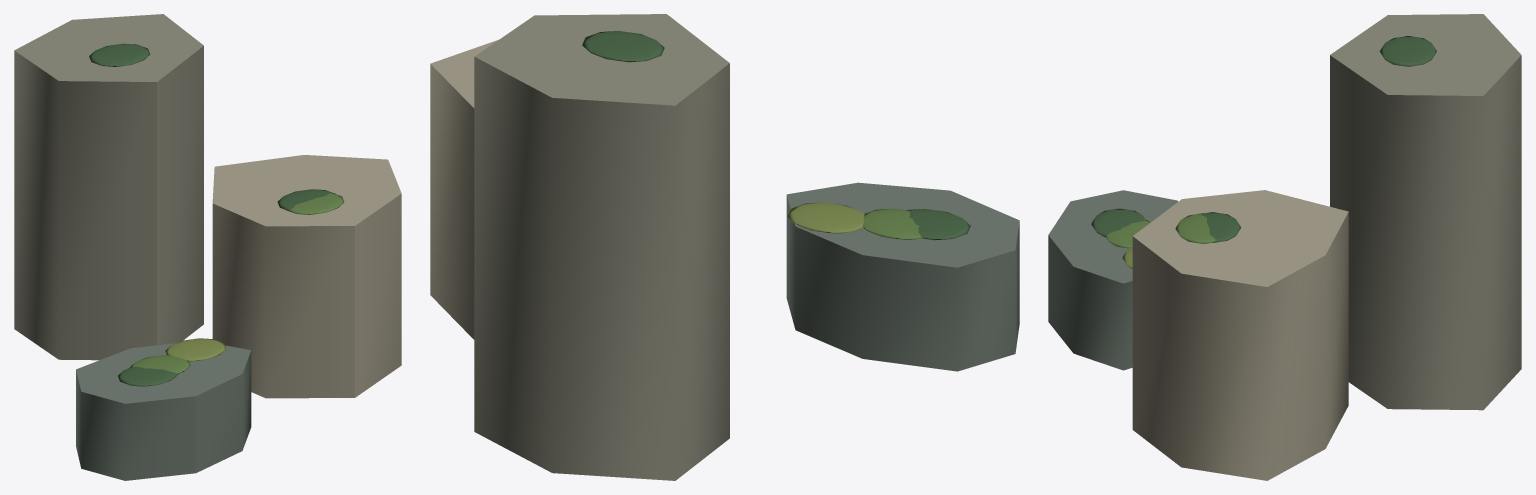
The picture shows the model from 3 angles, left to right: view 1: azimuth 30°, elevation 25°; view 2: azimuth 150°, elevation 25°; view 3: azimuth 270°, elevation 25°; orthographic projection. The views are drawn at different scales.
Parts seen in each view (by area): view 1: climb-rocks-9-0, climb-rocks-9-1, climb-rocks-9-2, 바위 10; view 2: climb-rocks-9-0, climb-rocks-9-2, climb-rocks-9-1, 바위 10; view 3: climb-rocks-9-0, climb-rocks-9-1, climb-rocks-9-2, 바위 10.
Part boxes in pixels (x1,y1,x2,y2): climb-rocks-9-0: (14,14,203,360); climb-rocks-9-1: (212,155,401,398); climb-rocks-9-2: (76,343,251,480); 바위 10: (89,43,344,386); climb-rocks-9-0: (474,14,729,480); climb-rocks-9-2: (786,182,1019,371); climb-rocks-9-1: (430,39,498,339); 바위 10: (582,31,970,240); climb-rocks-9-0: (1330,14,1521,410); climb-rocks-9-1: (1132,190,1348,480); climb-rocks-9-2: (1048,190,1178,370); 바위 10: (1091,36,1436,268).
Bounding box in the file's own units: 3.02 × 2.2 × 2.96.
